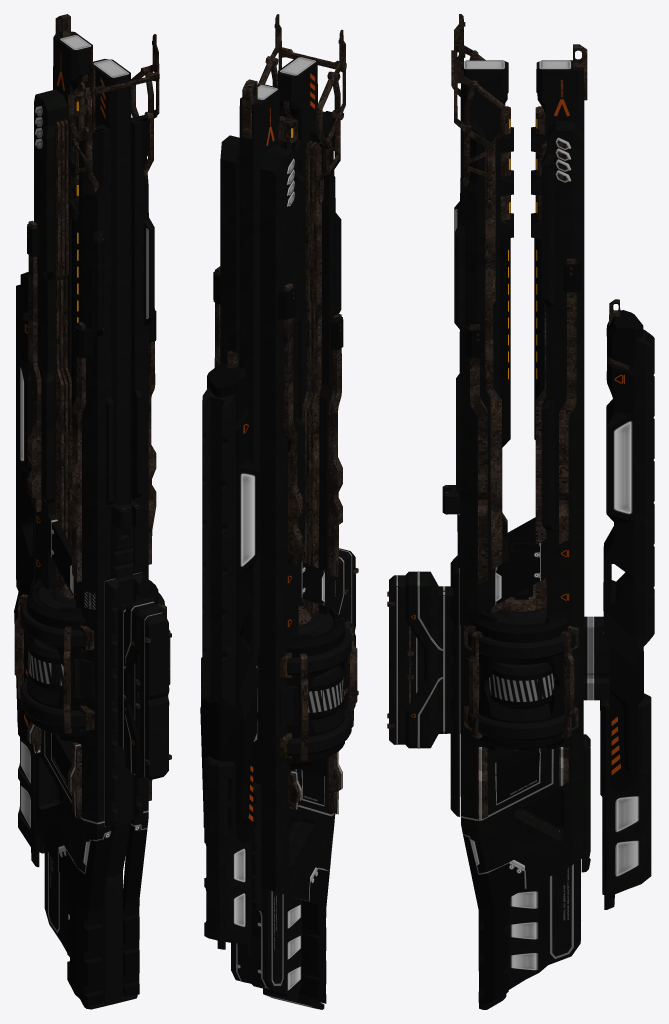
Rendered from sledge-i-mass-driver-cannon.glb.
3 renders of one model, left to right at view 1: azimuth 30°, elevation 25°; view 2: azimuth 150°, elevation 25°; view 3: azimuth 270°, elevation 25°, orthographic.
Parts seen in each view (by area): view 1: bas; view 2: bas; view 3: bas.
Boxes of the visible parts, bbox=[...] form: bas: bbox=[14, 14, 171, 1009]; bas: bbox=[200, 14, 358, 1009]; bas: bbox=[387, 14, 654, 1009].
Size of the model in its own units: 0.2228 by 1.6 by 0.4001.
8 materials, 7 textured.
